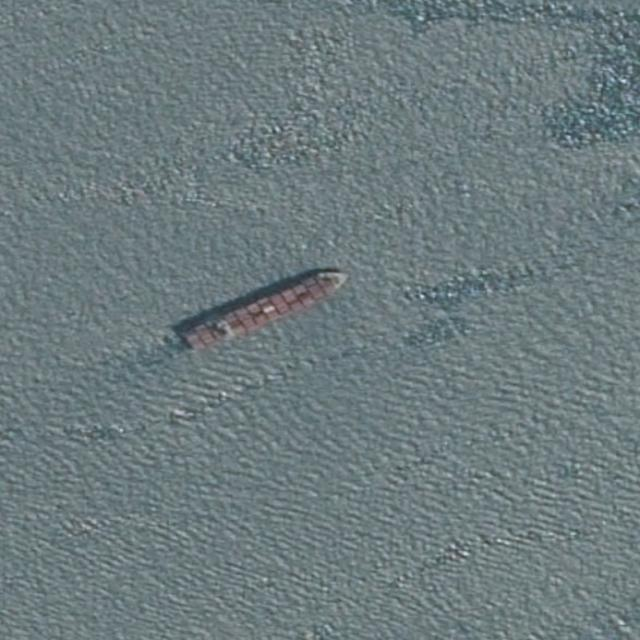Container Ship: (178, 257, 359, 354)
